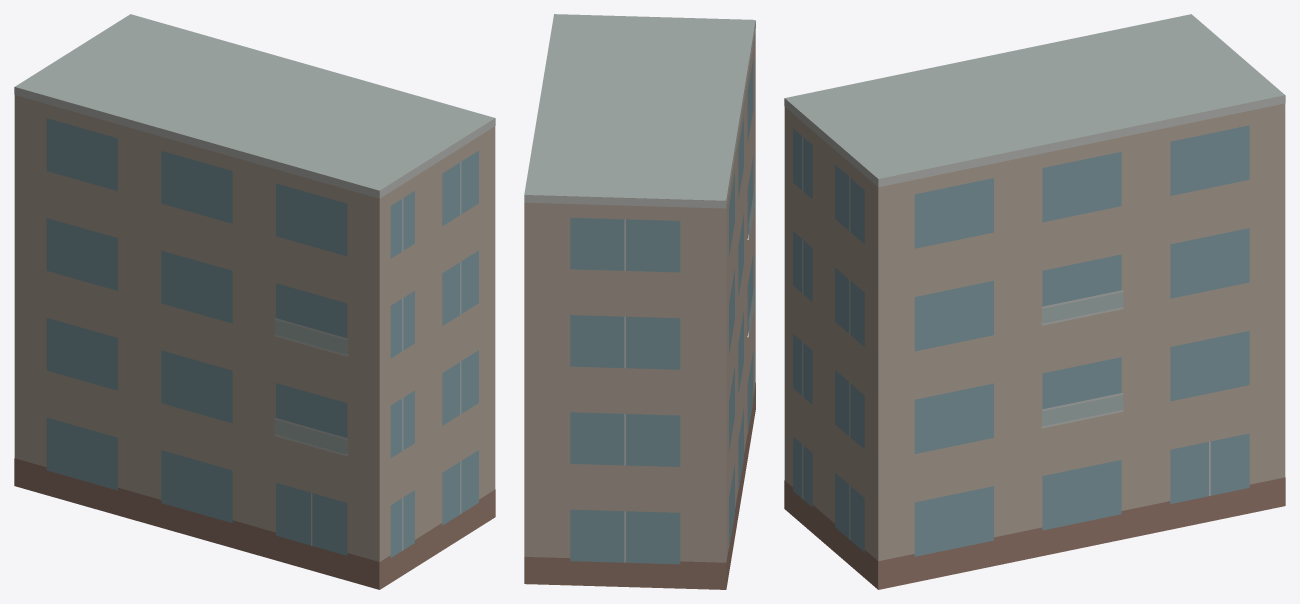
Rendered from residential-0ceb2a74-a41d-4a14-8486-aa9502ac00f6.glb.
3 views of the same model, side by side, from view 1: azimuth 30°, elevation 25°; view 2: azimuth 150°, elevation 25°; view 3: azimuth 270°, elevation 25° (orthographic). The views are drawn at different scales.
Visible parts, largest first — view 1: residential-0ceb2a74-a41d-4a14-8486-aa9502ac00f6.tmp; view 2: residential-0ceb2a74-a41d-4a14-8486-aa9502ac00f6.tmp; view 3: residential-0ceb2a74-a41d-4a14-8486-aa9502ac00f6.tmp.
Boxes of the visible parts, bbox=[...] form: residential-0ceb2a74-a41d-4a14-8486-aa9502ac00f6.tmp: bbox=[14, 14, 495, 589]; residential-0ceb2a74-a41d-4a14-8486-aa9502ac00f6.tmp: bbox=[524, 14, 755, 589]; residential-0ceb2a74-a41d-4a14-8486-aa9502ac00f6.tmp: bbox=[784, 14, 1285, 589].
Bounding box in the file's own units: 10.52 × 12.2 × 13.49.
